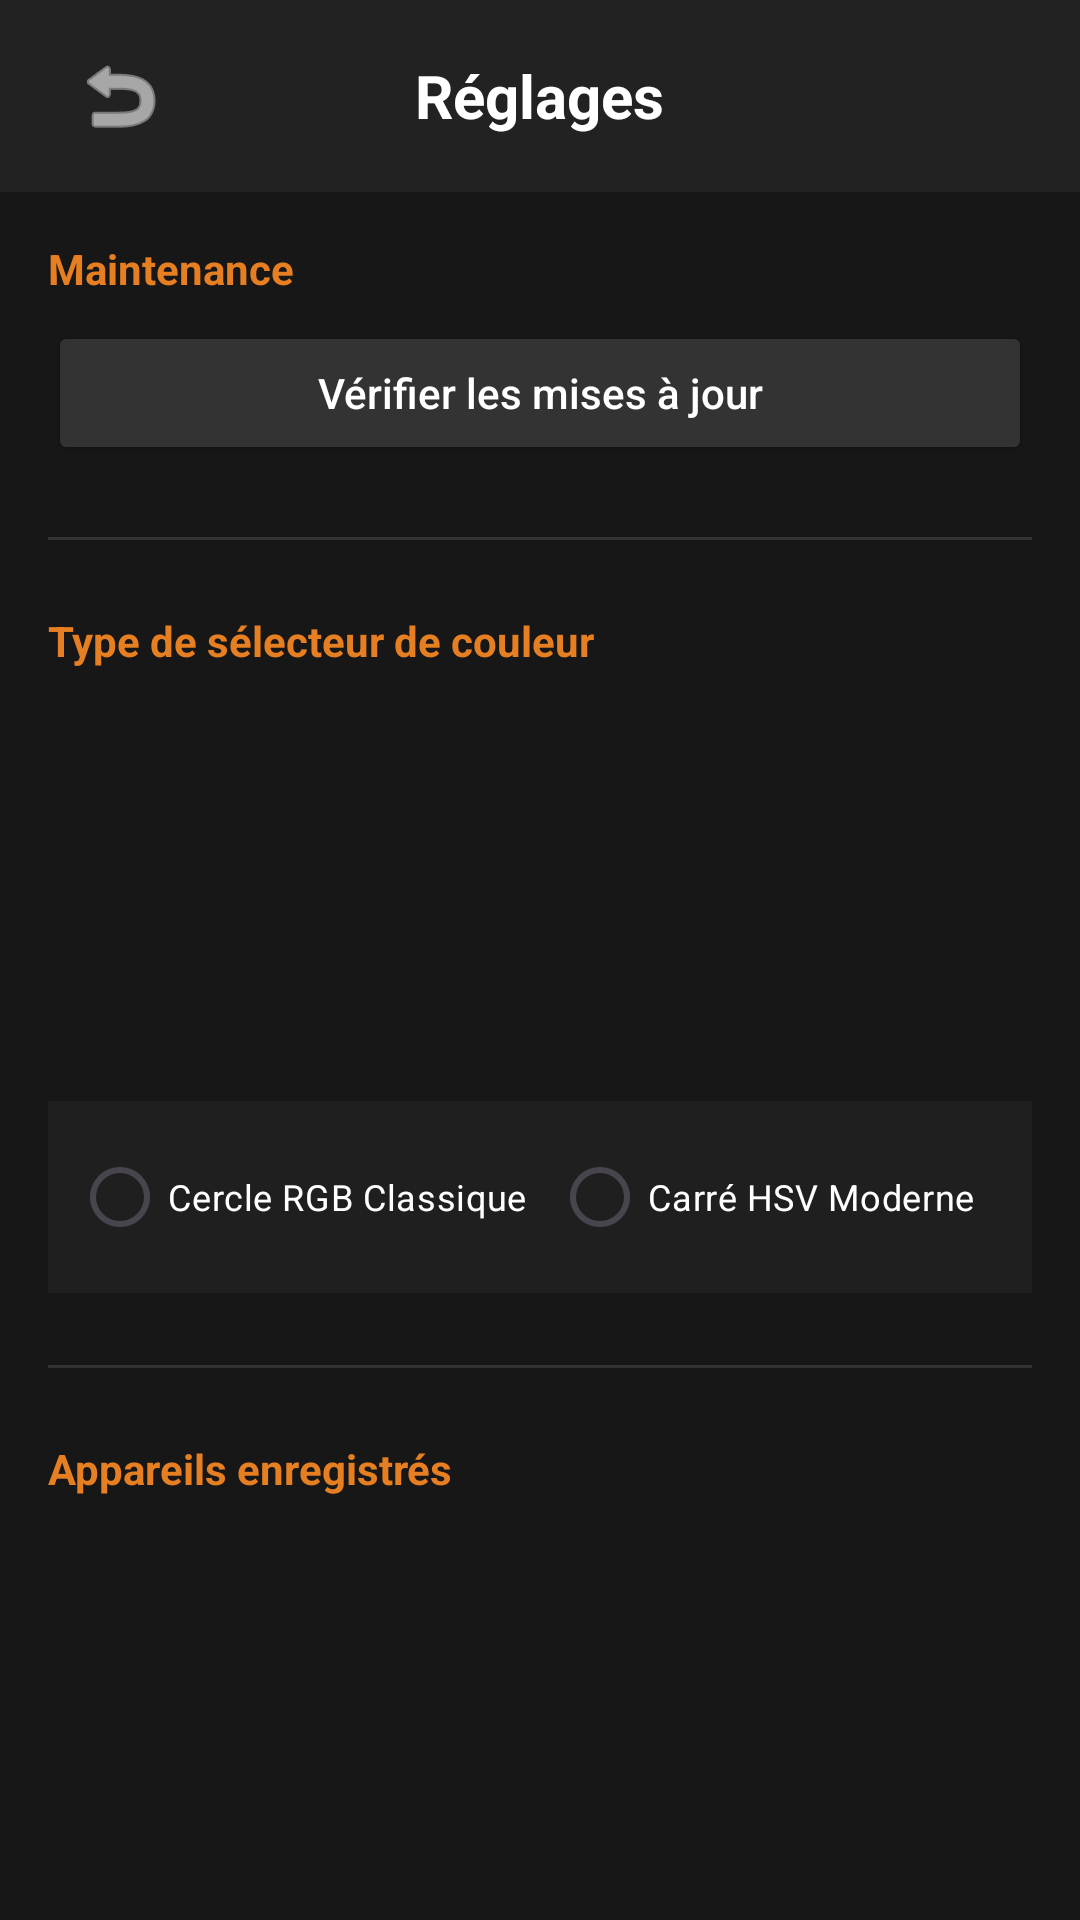

Screen size 1080 × 1920. Icon name, then its box in pixels as box=[x1, y1, x2, y2]:
Annuler: box=[87, 65, 156, 128]
